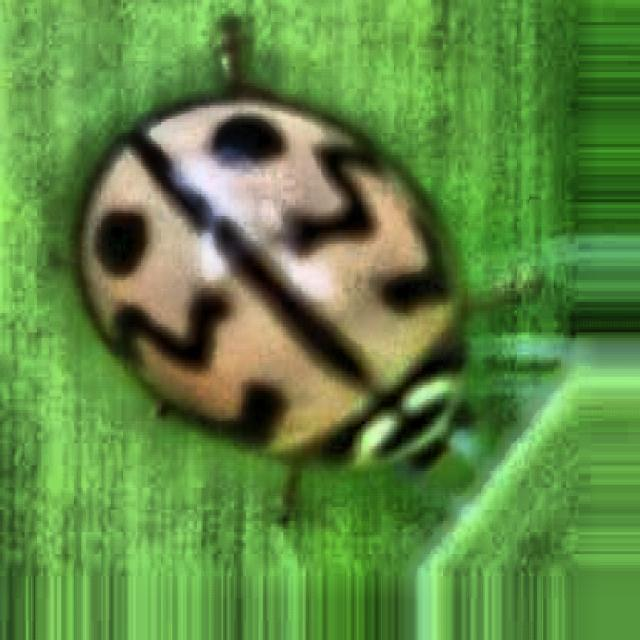Asian-Lady-beetle: (53, 21, 575, 590)
